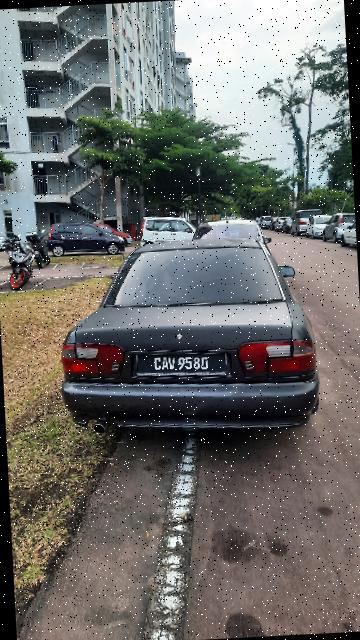License_Plate: (130, 344, 235, 383)
car: (43, 228, 332, 446)
